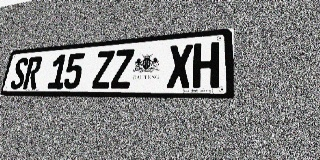1: (47, 54, 69, 89)
5: (63, 53, 85, 89)
H: (192, 42, 219, 88)
R: (22, 56, 43, 89)
S: (9, 57, 29, 89)
X: (167, 44, 193, 88)
Z: (110, 49, 135, 89), (91, 50, 115, 89)
